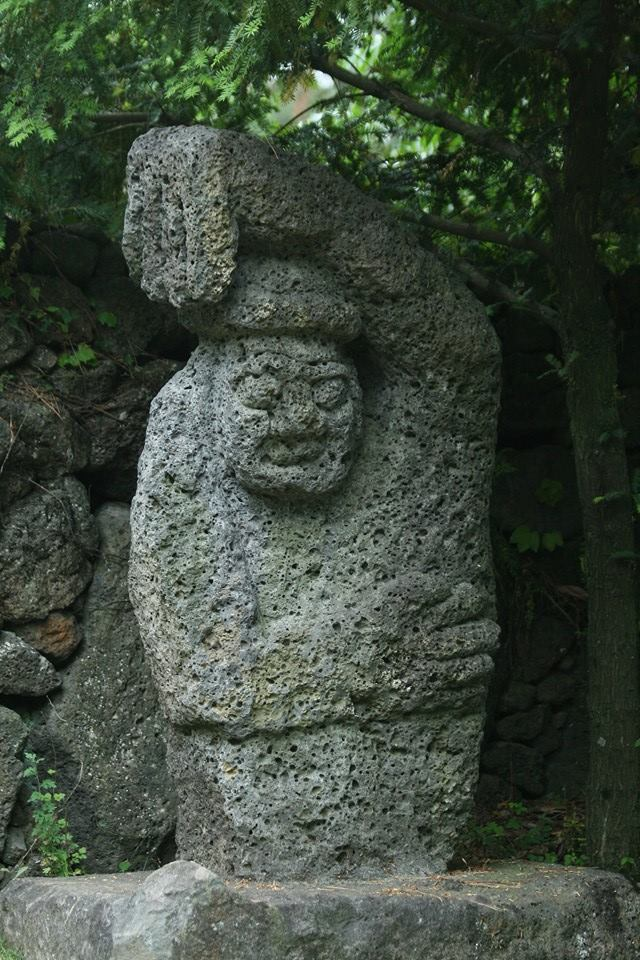Stone Statue: (95, 109, 542, 893)
